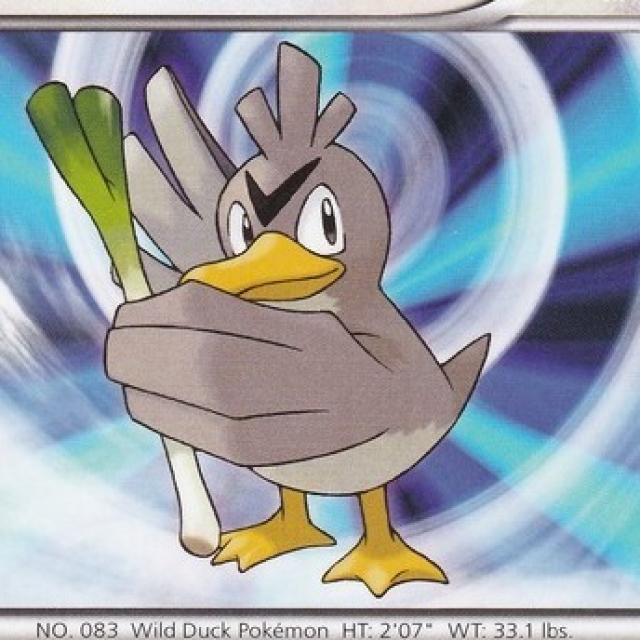Farfetchd: (71, 43, 509, 560)
